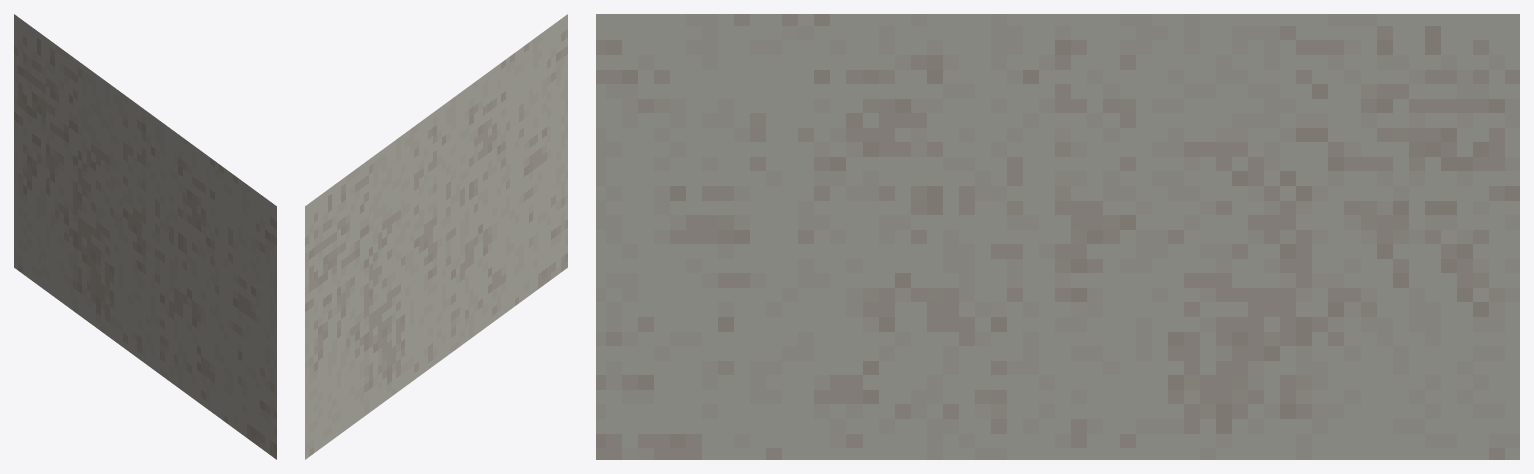
Rendered from kd_stage_135c43_4_30_bounded_piece_21.glb.
The picture shows the model from 3 angles, left to right: view 1: azimuth 30°, elevation 25°; view 2: azimuth 150°, elevation 25°; view 3: azimuth 270°, elevation 25°; orthographic projection. The views are drawn at different scales.
Parts seen in each view (by area): view 1: kd_stage_135c43_4_30_bounded_piece_21; view 2: kd_stage_135c43_4_30_bounded_piece_21; view 3: kd_stage_135c43_4_30_bounded_piece_21.
Part boxes in pixels (<box>): kd_stage_135c43_4_30_bounded_piece_21: <box>14,14,276,459</box>; kd_stage_135c43_4_30_bounded_piece_21: <box>305,14,567,459</box>; kd_stage_135c43_4_30_bounded_piece_21: <box>596,14,1519,459</box>.
Size of the model in its own units: 0 by 0.1855 by 0.3484.
1 material, 1 textured.
